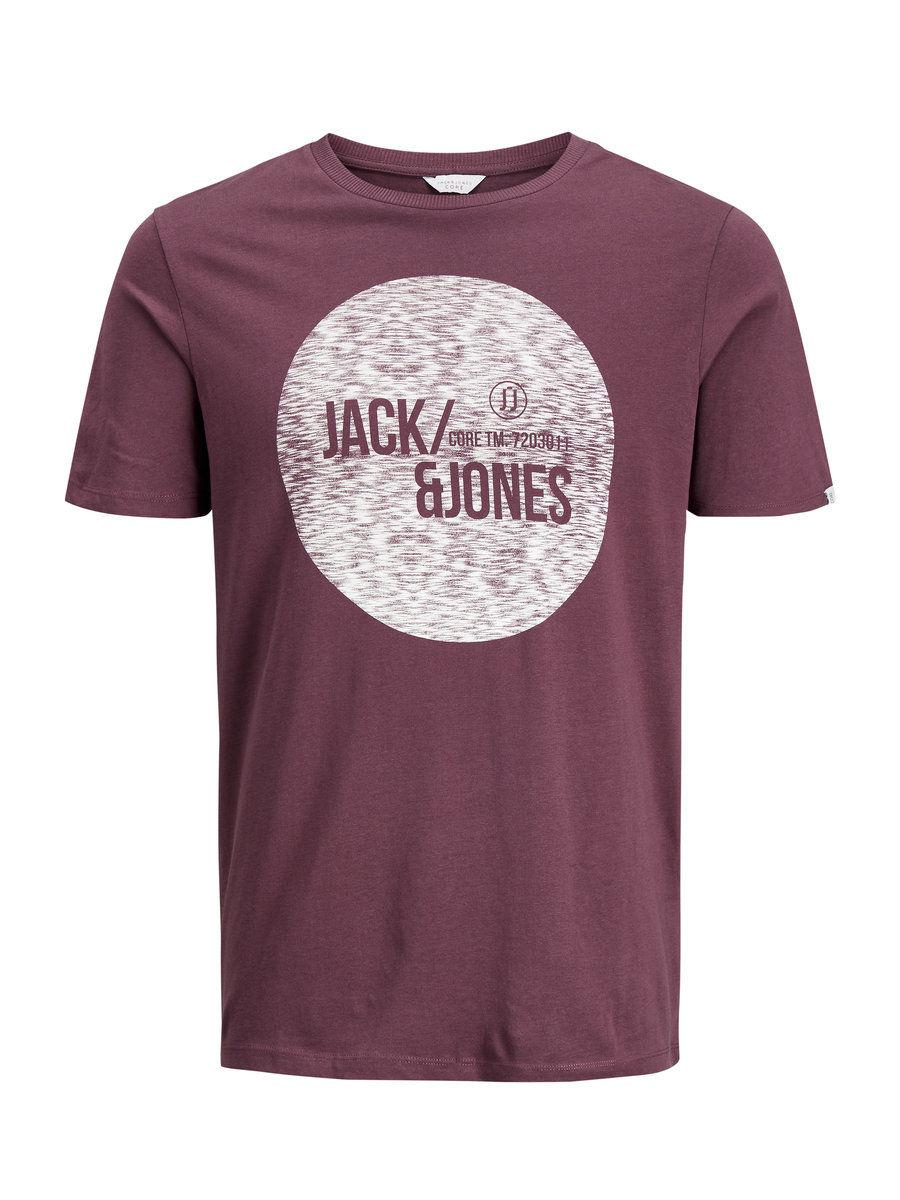teeshirt: (49, 116, 876, 1122)
